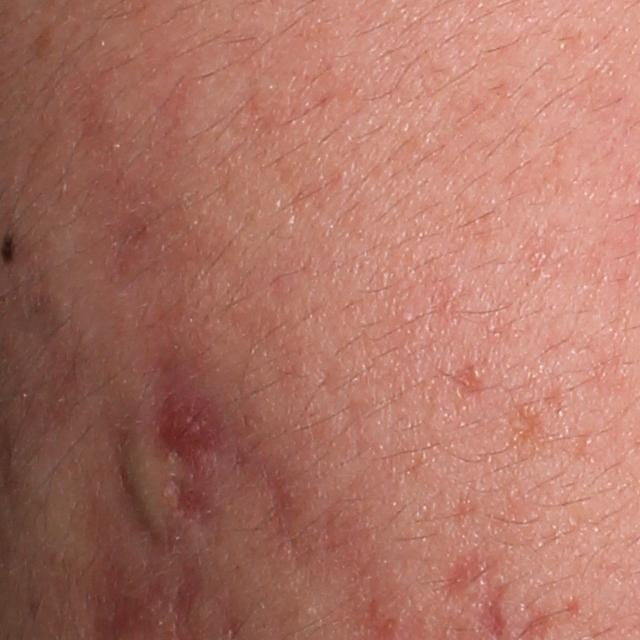atrophic_scar: (160, 358, 247, 535), (435, 542, 482, 616), (260, 463, 299, 541), (445, 360, 487, 402)
hypertrophic_scar: (118, 419, 179, 560)
nevus: (0, 230, 17, 264)
